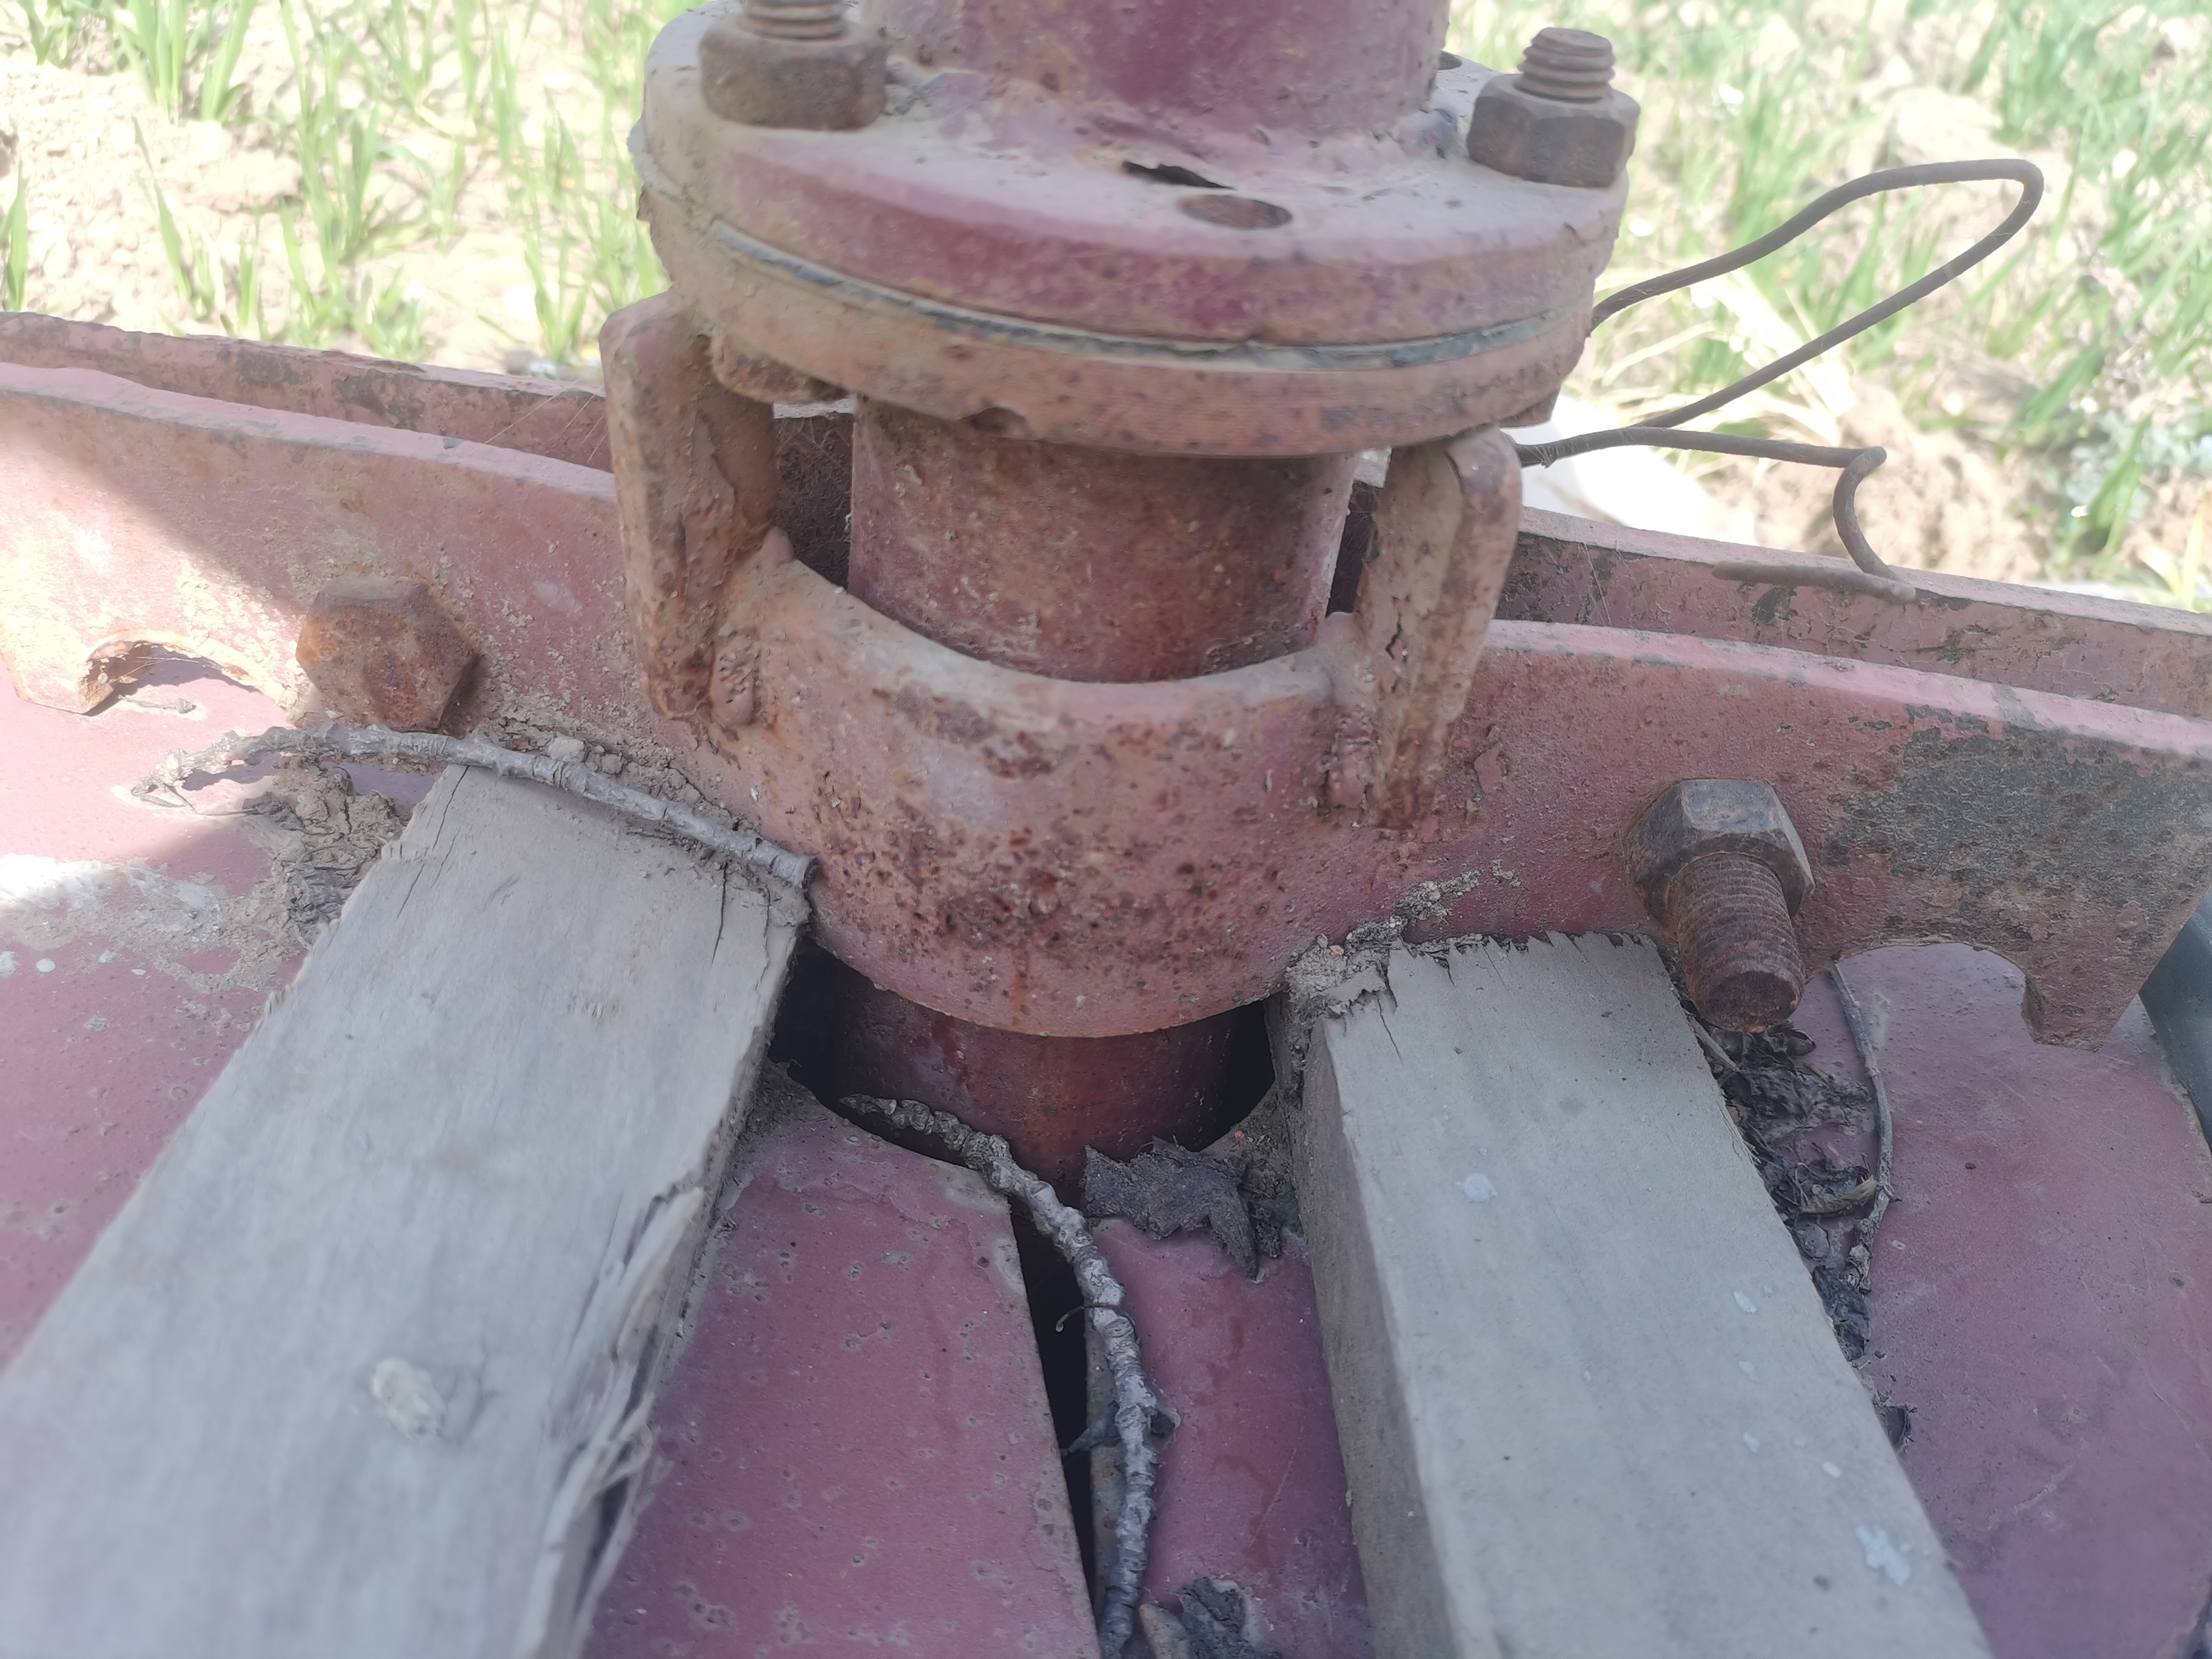bolt_a: (291, 568, 482, 739)
bolt_b: (1618, 772, 1818, 976)
bolt_c: (695, 12, 892, 136), (1461, 63, 1642, 193)
